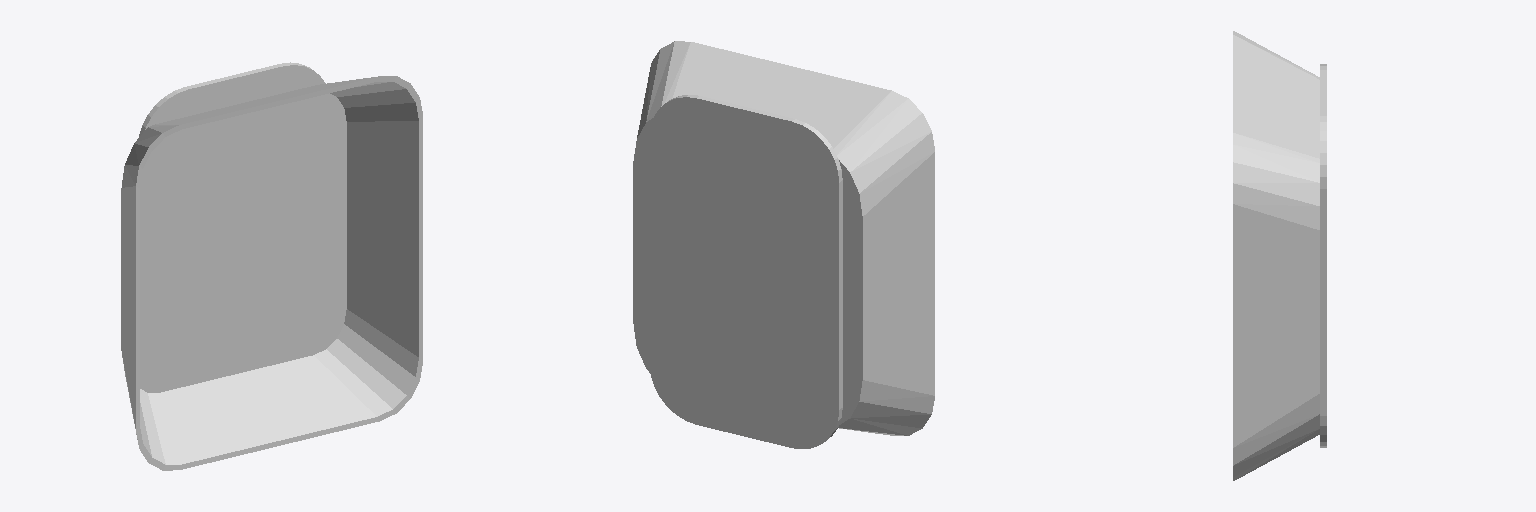
3 views of the same model, side by side, from view 1: azimuth 30°, elevation 25°; view 2: azimuth 150°, elevation 25°; view 3: azimuth 270°, elevation 25° (orthographic).
Visible parts, largest first — view 1: link_bin; view 2: link_bin; view 3: link_bin.
Part boxes in pixels (x1,y1,x2,y2): link_bin: (121, 62, 422, 470); link_bin: (633, 41, 934, 448); link_bin: (1233, 31, 1326, 480).
Size of the model in its own units: 0.3039 by 0.3488 by 0.0865.
1 materials, 1 textured.